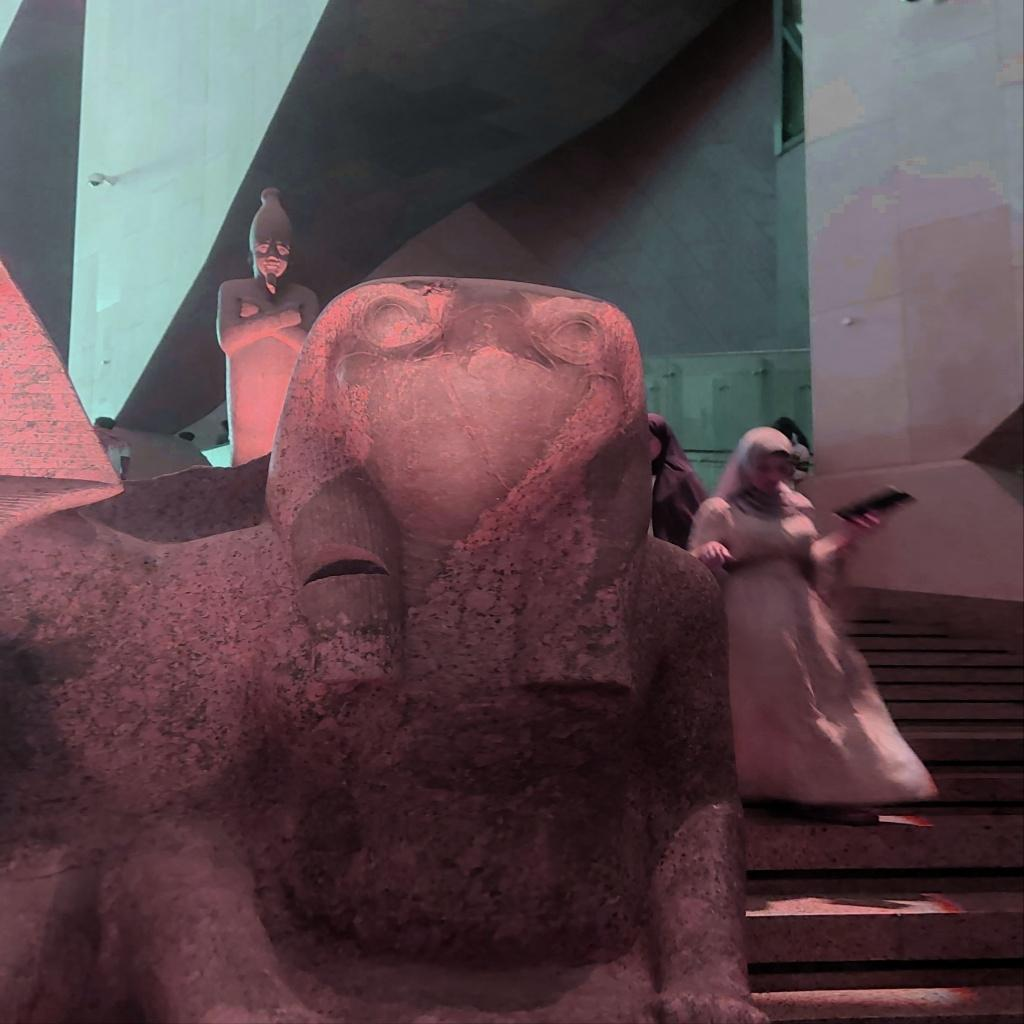Statue of Amenhotep III and God Re-Horakhty: (0, 263, 731, 988)
